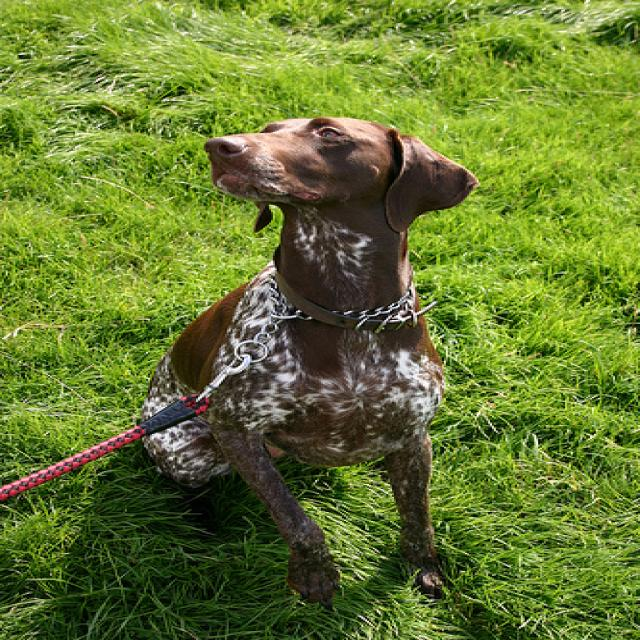dog-german_shorthaired: (133, 113, 486, 604)
